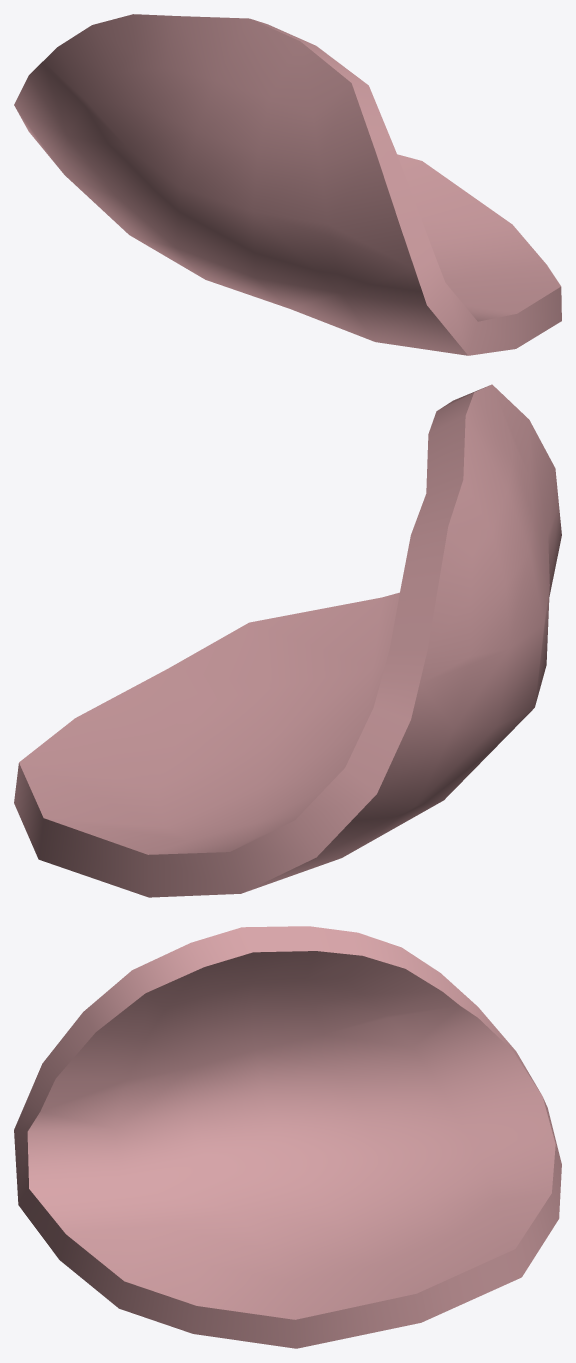
The picture shows the model from 3 angles, top to bottom: view 1: azimuth 30°, elevation 25°; view 2: azimuth 150°, elevation 25°; view 3: azimuth 270°, elevation 25°; orthographic projection. The views are drawn at different scales.
Parts seen in each view (by area): view 1: ZA_674b0d1283e0ded1; view 2: ZA_674b0d1283e0ded1; view 3: ZA_674b0d1283e0ded1.
Part boxes in pixels (box(x1,y1,x2,y2)): ZA_674b0d1283e0ded1: box(14, 14, 561, 355); ZA_674b0d1283e0ded1: box(14, 384, 561, 897); ZA_674b0d1283e0ded1: box(14, 926, 561, 1348).
Size of the model in its own units: 0.0369 by 0.0307 by 0.0517.
